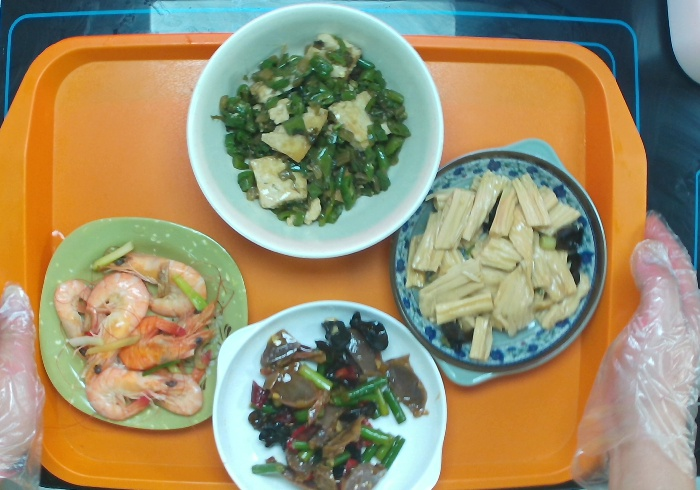NLDX-Bai_Se_Shuang_Er_Die: (211, 300, 449, 490)
NLDX-Bai_Se_Yuan_Wan: (185, 3, 445, 260)
NLDX-Lv_Hua_Fang_Die: (39, 218, 248, 431)
NLDX-Qing_Hua_Shuang_Er_Die: (388, 138, 606, 385)
